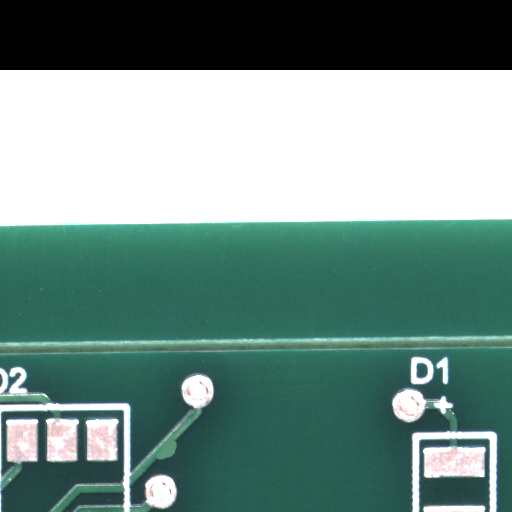Spur: (166, 451, 186, 469)
